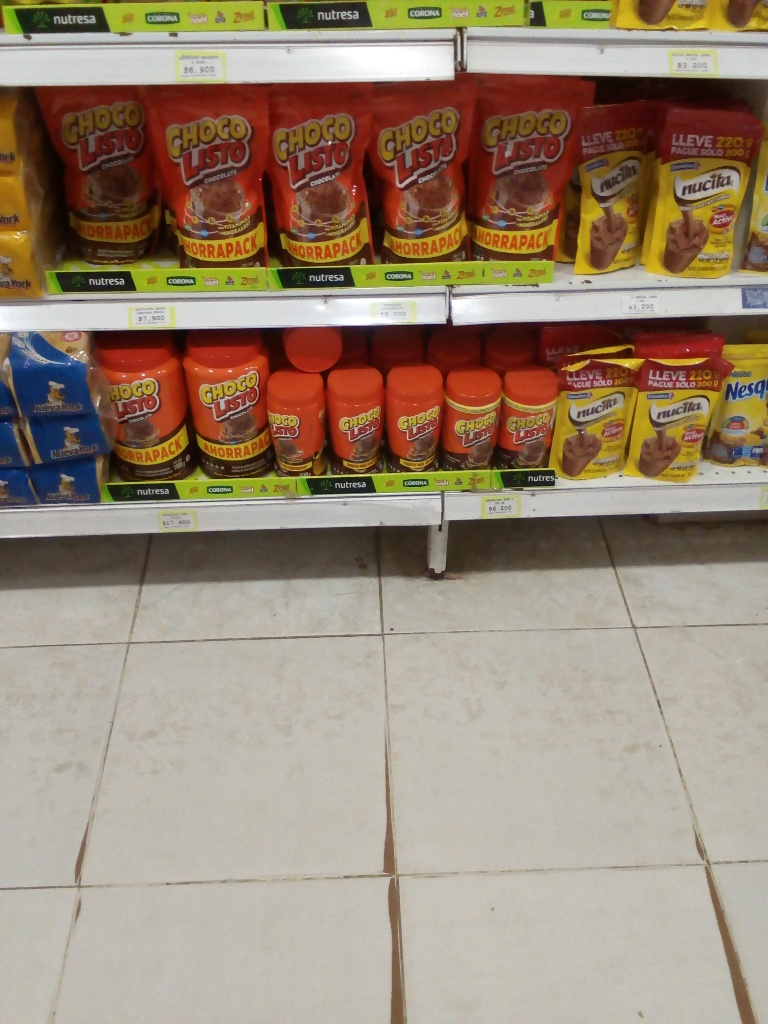COL0170103DYP40000: (41, 89, 153, 266)
COL0170103TRR00100: (94, 341, 191, 482)
COL0170103TRR30000: (261, 366, 337, 480)
COL0170303DYP20000: (710, 340, 767, 481)
